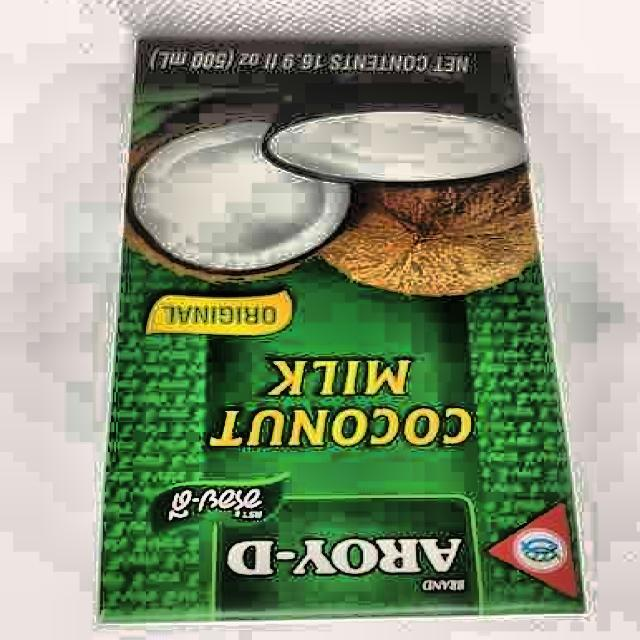cardboard: (96, 39, 589, 626)
